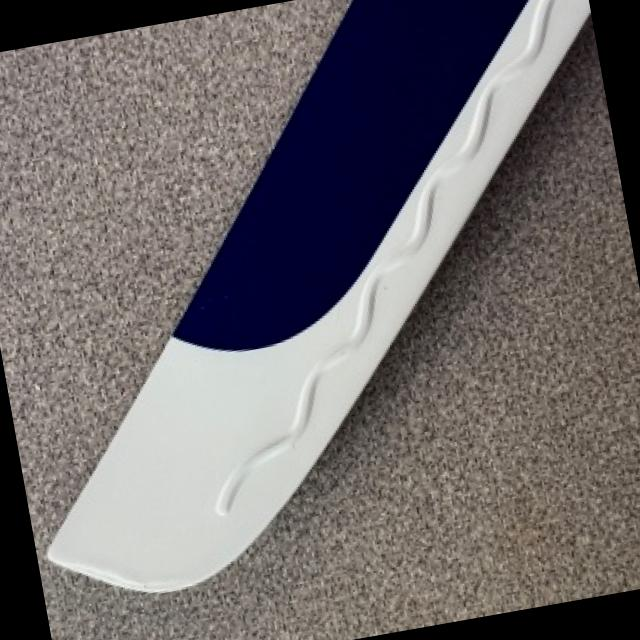healthy: (48, 0, 588, 590)
